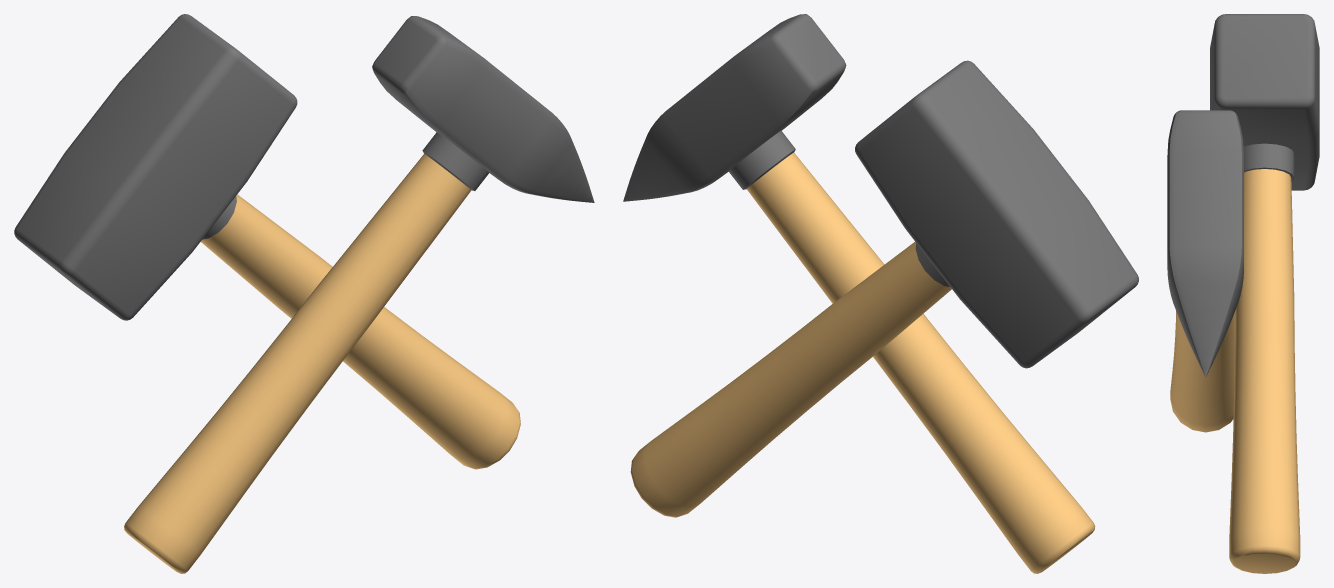
File: hammer_and_pick.glb
The picture shows the model from 3 angles, left to right: view 1: azimuth 30°, elevation 25°; view 2: azimuth 150°, elevation 25°; view 3: azimuth 270°, elevation 25°; orthographic projection. The views are drawn at different scales.
Parts seen in each view (by area): view 1: Circle.2584, Circle.2585; view 2: Circle.2584, Circle.2585; view 3: Circle.2584, Circle.2585.
Boxes of the visible parts, x1,y1,x2,y2 form: Circle.2584: (14, 14, 520, 469); Circle.2585: (124, 16, 594, 573); Circle.2584: (630, 60, 1138, 517); Circle.2585: (623, 14, 1095, 573); Circle.2584: (1210, 14, 1319, 573); Circle.2585: (1167, 110, 1243, 432).
Bounding box in the file's own units: 2.37 × 2.15 × 0.6664.
1 material, 1 textured.
